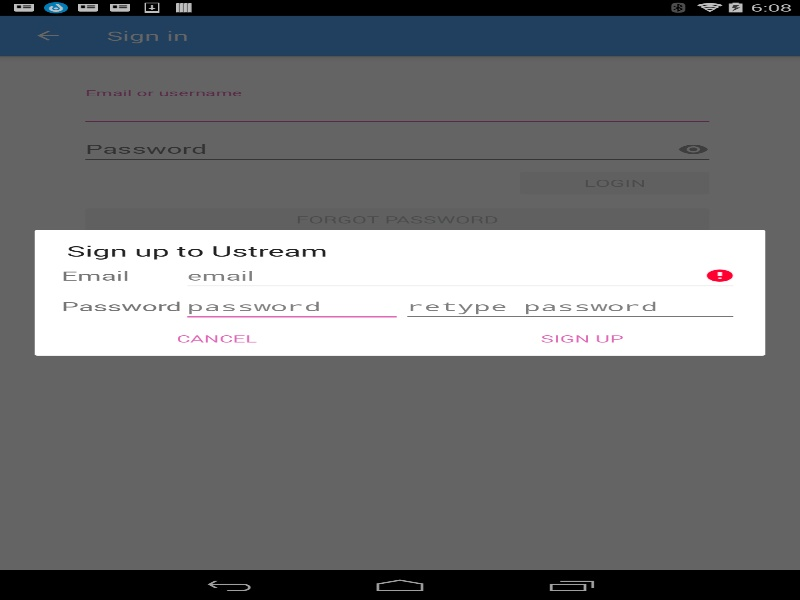Button: (398, 321, 765, 355), (34, 321, 398, 355)
Input: (182, 260, 738, 291), (401, 291, 738, 321), (182, 291, 401, 321)
